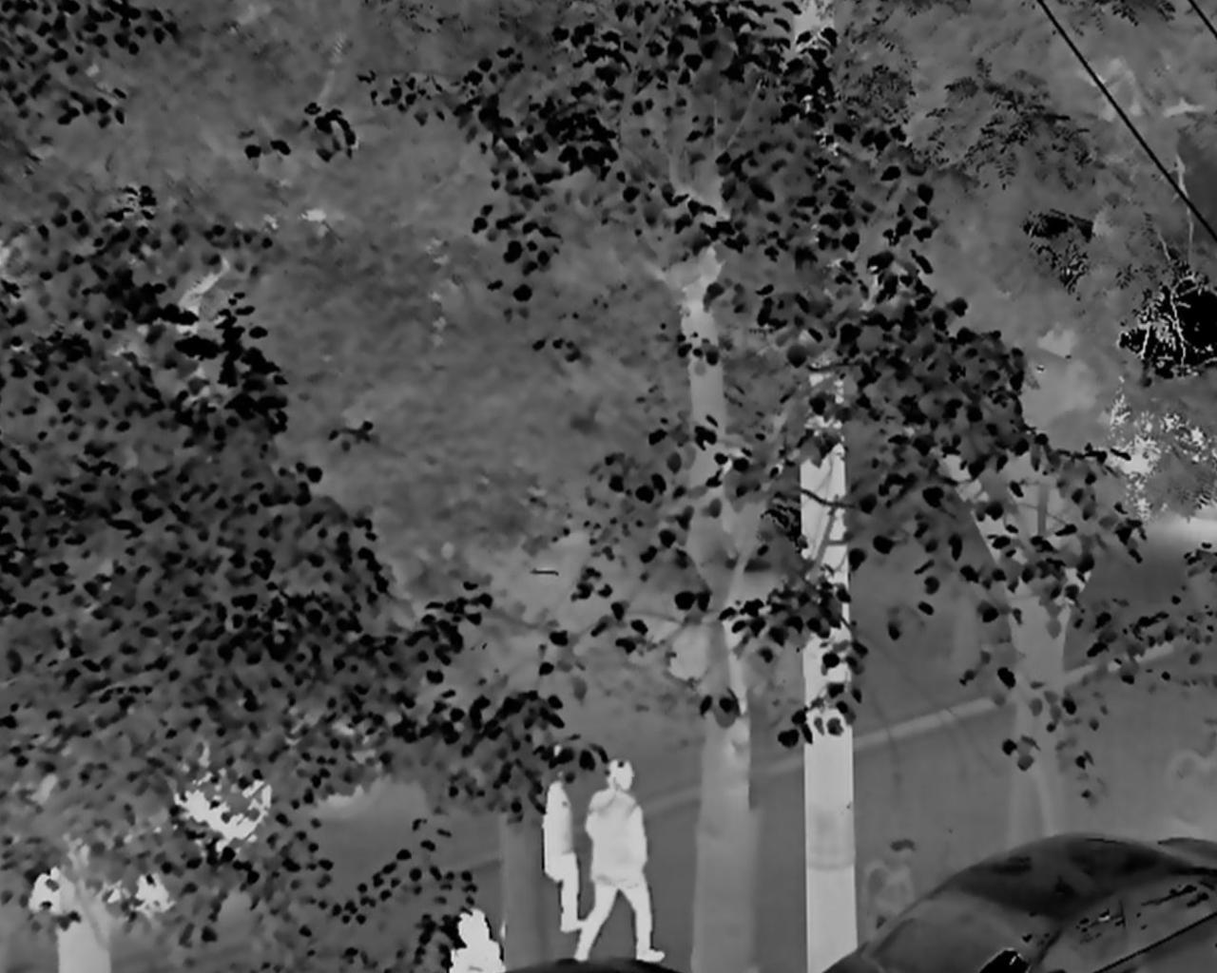person: (584, 760, 664, 973), (539, 742, 588, 943)
